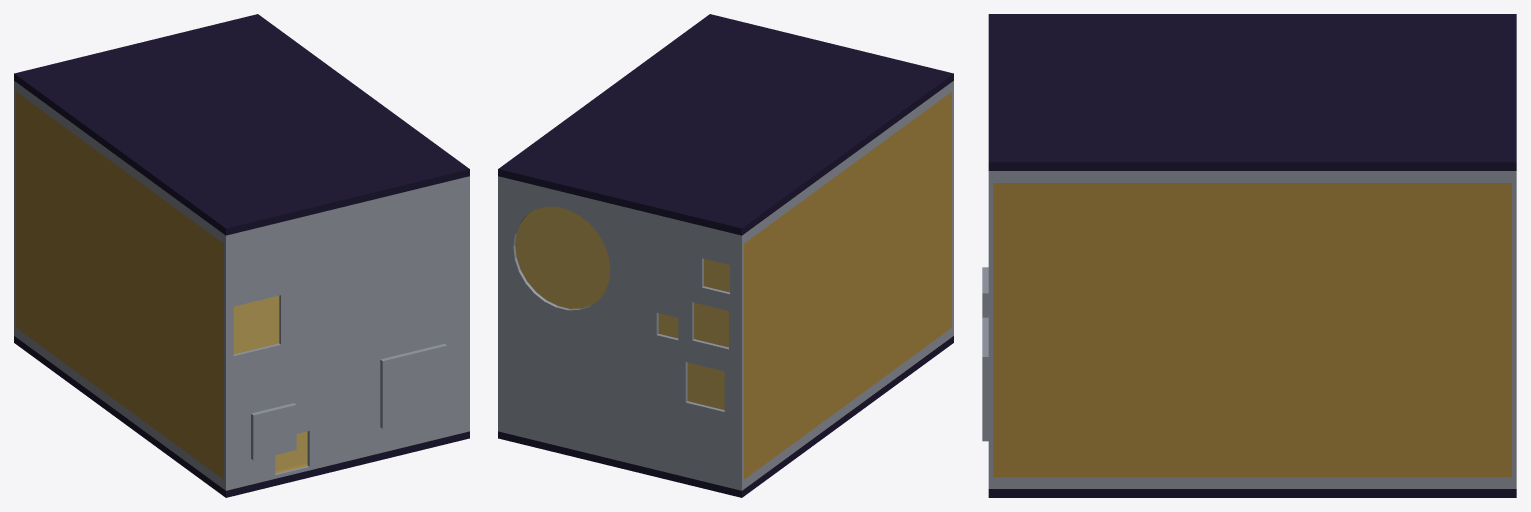
The model's file is wollemi_12u_stowed_textured.obj.
3 renders of one model, left to right at view 1: azimuth 30°, elevation 25°; view 2: azimuth 150°, elevation 25°; view 3: azimuth 270°, elevation 25°, orthographic. The views are drawn at different scales.
Visible parts, largest first — view 1: part_9_Zenith_plate, part_71_Wing_A_panel_3, part_5_Wall__X, part_11_S_band_patch_antenna, part_23_Bus__star_tracker__dedicated_, part_2_Rail__1_1, part_3_Rail__1_1, part_10_GNSS_patch_antenna, part_72_Wing_B_panel_1, part_74_Wing_B_panel_3, part_69_Wing_A_panel_1, part_70_Wing_A_panel_2 (+2 smaller); view 2: part_71_Wing_A_panel_3, part_8_Nadir_plate, part_5_Wall__X, part_22_Payload_E__telescope_camera__85_mm_Casse, part_2_Rail__1_1, part_3_Rail__1_1, part_25_OUTREACH__RGB_LED_flasher__violet_405_nm, part_72_Wing_B_panel_1, part_74_Wing_B_panel_3, part_69_Wing_A_panel_1, part_70_Wing_A_panel_2, part_73_Wing_B_panel_2 (+2 smaller); view 3: part_4_Wall__X, part_71_Wing_A_panel_3, part_0_Rail__1_1, part_1_Rail__1_1, part_70_Wing_A_panel_2, part_9_Zenith_plate, part_69_Wing_A_panel_1, part_72_Wing_B_panel_1, part_73_Wing_B_panel_2, part_74_Wing_B_panel_3, part_8_Nadir_plate, part_11_S_band_patch_antenna.
Boxes of the visible parts, x1=… form: part_9_Zenith_plate: x1=224, y1=178, x2=469, y2=488; part_71_Wing_A_panel_3: x1=14, y1=14, x2=469, y2=230; part_5_Wall__X: x1=16, y1=92, x2=223, y2=479; part_11_S_band_patch_antenna: x1=380, y1=343, x2=447, y2=428; part_23_Bus__star_tracker__dedicated_: x1=233, y1=295, x2=279, y2=354; part_2_Rail__1_1: x1=14, y1=81, x2=234, y2=244; part_3_Rail__1_1: x1=14, y1=326, x2=234, y2=490; part_10_GNSS_patch_antenna: x1=251, y1=403, x2=296, y2=460; part_72_Wing_B_panel_1: x1=14, y1=336, x2=469, y2=492; part_74_Wing_B_panel_3: x1=14, y1=340, x2=469, y2=497; part_69_Wing_A_panel_1: x1=14, y1=78, x2=469, y2=235; part_70_Wing_A_panel_2: x1=14, y1=76, x2=469, y2=233; part_71_Wing_A_panel_3: x1=498, y1=14, x2=953, y2=230; part_8_Nadir_plate: x1=498, y1=178, x2=743, y2=488; part_5_Wall__X: x1=744, y1=92, x2=951, y2=479; part_22_Payload_E__telescope_camera__85_mm_Casse: x1=515, y1=206, x2=610, y2=308; part_2_Rail__1_1: x1=733, y1=81, x2=953, y2=244; part_3_Rail__1_1: x1=733, y1=326, x2=953, y2=490; part_25_OUTREACH__RGB_LED_flasher__violet_405_nm: x1=687, y1=362, x2=724, y2=409; part_72_Wing_B_panel_1: x1=498, y1=336, x2=953, y2=492; part_74_Wing_B_panel_3: x1=498, y1=340, x2=953, y2=497; part_69_Wing_A_panel_1: x1=498, y1=78, x2=953, y2=235; part_70_Wing_A_panel_2: x1=498, y1=76, x2=953, y2=233; part_73_Wing_B_panel_2: x1=498, y1=338, x2=953, y2=495; part_4_Wall__X: x1=993, y1=183, x2=1511, y2=477; part_71_Wing_A_panel_3: x1=988, y1=14, x2=1516, y2=165; part_0_Rail__1_1: x1=988, y1=171, x2=1516, y2=182; part_1_Rail__1_1: x1=988, y1=477, x2=1516, y2=488; part_70_Wing_A_panel_2: x1=988, y1=165, x2=1516, y2=168; part_9_Zenith_plate: x1=988, y1=183, x2=993, y2=477; part_69_Wing_A_panel_1: x1=988, y1=168, x2=1516, y2=170; part_72_Wing_B_panel_1: x1=988, y1=489, x2=1516, y2=491; part_73_Wing_B_panel_2: x1=988, y1=492, x2=1516, y2=494; part_74_Wing_B_panel_3: x1=988, y1=495, x2=1516, y2=497; part_8_Nadir_plate: x1=1512, y1=183, x2=1516, y2=477; part_11_S_band_patch_antenna: x1=982, y1=317, x2=988, y2=441.
Size of the model in its own units: 226 by 239 by 344.
